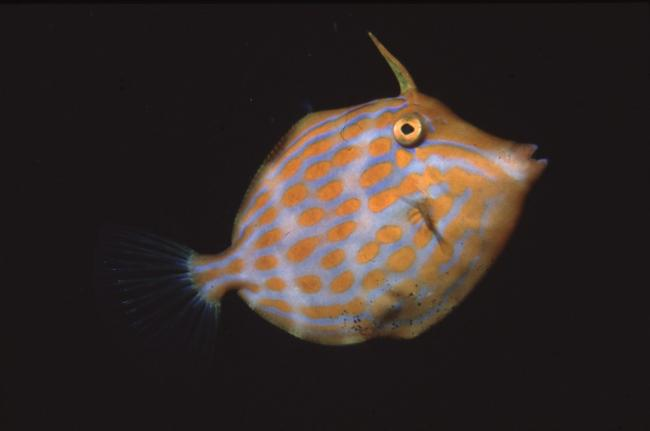fish: (112, 31, 549, 354)
